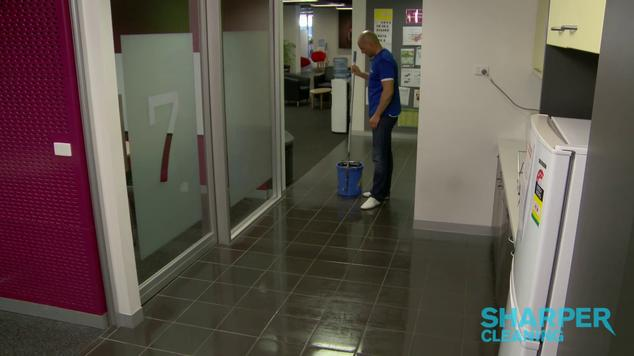walk: (347, 32, 407, 205)
